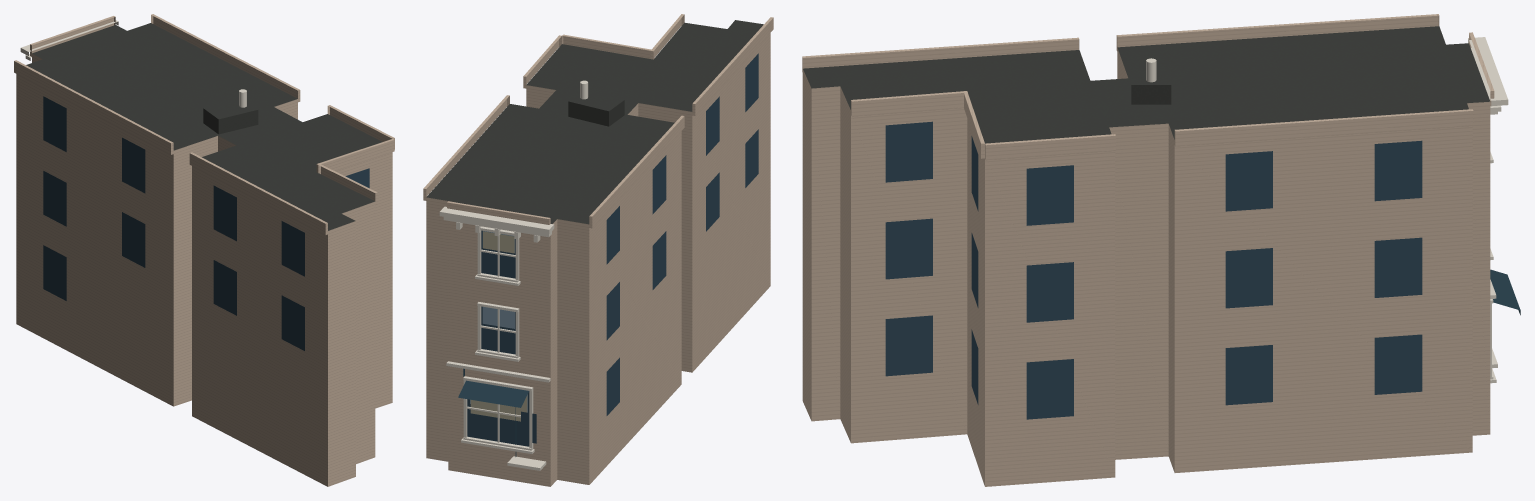
3 views of the same model, side by side, from view 1: azimuth 30°, elevation 25°; view 2: azimuth 150°, elevation 25°; view 3: azimuth 270°, elevation 25° (orthographic). The views are drawn at different scales.
Visible parts, largest first — view 1: Footprint 0 / surface 2, Footprint 0 / surface 1, Inset glazing, Facade bay volumes, Inferred rooftop service enclosure / surface 5, Inferred rooftop service enclosure / surface 3; view 2: Footprint 0 / surface 2, Footprint 0 / surface 1, Inset glazing, Facade bay volumes, Cornices and window frames, Storefronts and doors, Interior blind variation, Inferred rooftop service enclosure / surface 6, Sky reflection panels, Inferred rooftop service enclosure / surface 3; view 3: Footprint 0 / surface 2, Footprint 0 / surface 1, Inset glazing, Facade bay volumes, Cornices and window frames, Inferred rooftop service enclosure / surface 1, Inferred rooftop service enclosure / surface 3.
Part boxes in pixels (x1,y1,x2,y2): Footprint 0 / surface 2: (16,53,392,486); Footprint 0 / surface 1: (26,23,382,230); Inset glazing: (43,96,369,350); Facade bay volumes: (14,14,394,235); Inferred rooftop service enclosure / surface 5: (218,110,258,134); Inferred rooftop service enclosure / surface 3: (203,99,257,119); Footprint 0 / surface 2: (426,33,770,486); Footprint 0 / surface 1: (426,20,763,224); Inset glazing: (467,53,758,446); Facade bay volumes: (423,14,773,228); Cornices and window frames: (439,206,554,470); Storefronts and doors: (458,368,528,456); Interior blind variation: (470,231,527,421); Inferred rooftop service enclosure / surface 6: (568,101,608,126); Sky reflection panels: (470,231,527,412); Inferred rooftop service enclosure / surface 3: (569,91,623,111); Footprint 0 / surface 2: (802,48,1490,486); Footprint 0 / surface 1: (803,26,1490,143); Inset glazing: (885,121,1422,419); Facade bay volumes: (802,14,1494,160); Cornices and window frames: (1468,37,1508,383); Inferred rooftop service enclosure / surface 1: (1131,85,1171,104); Inferred rooftop service enclosure / surface 3: (1131,60,1171,84).
Size of the model in its own units: 9.35 by 12.35 by 21.63.
